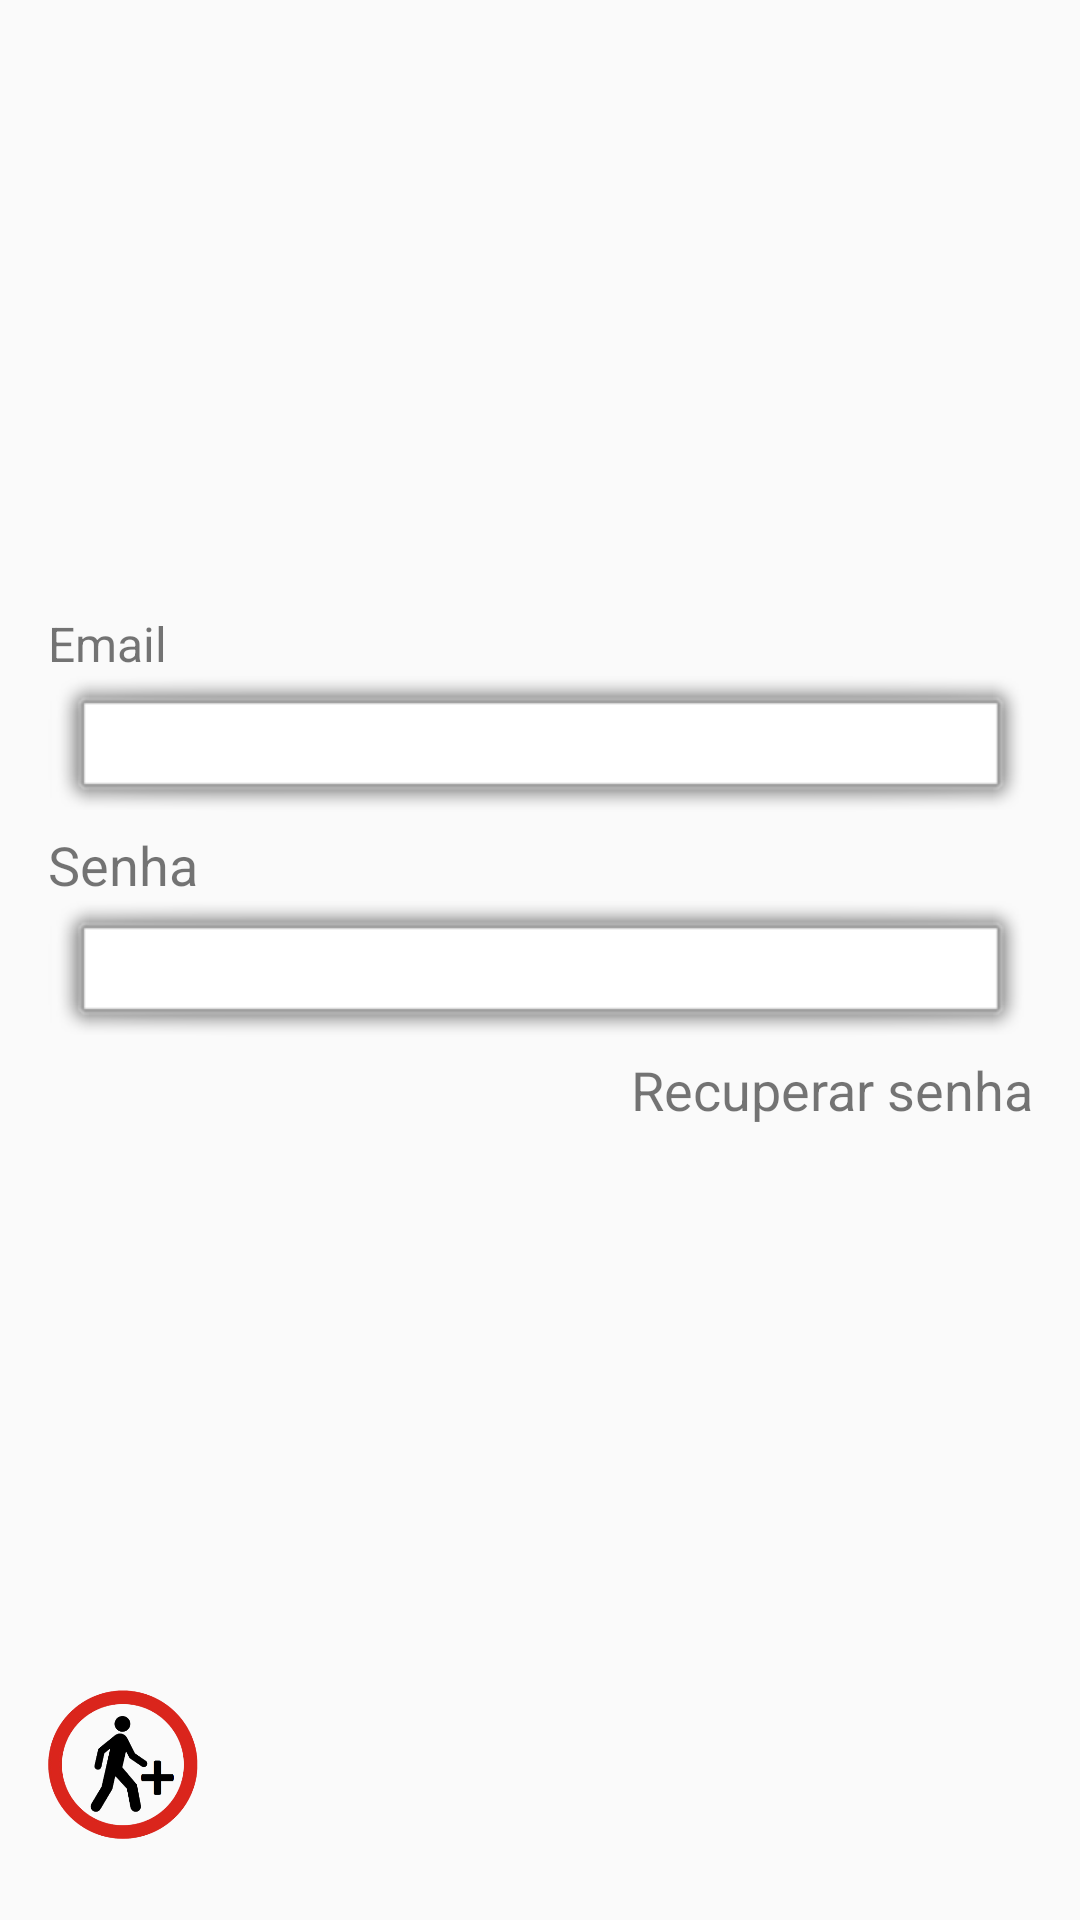

Icons on this 1080px×1920px Android screen, each with its box as (x1, y1, x2, y2):
novo: (48, 1690, 198, 1839)
